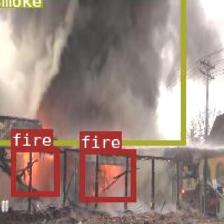fire: (79, 148, 135, 201), (9, 147, 58, 195)
smoke: (0, 0, 184, 144)
